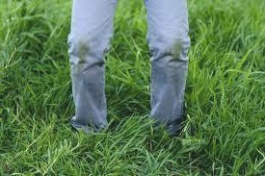earth: (174, 38, 182, 61), (81, 42, 88, 64)
